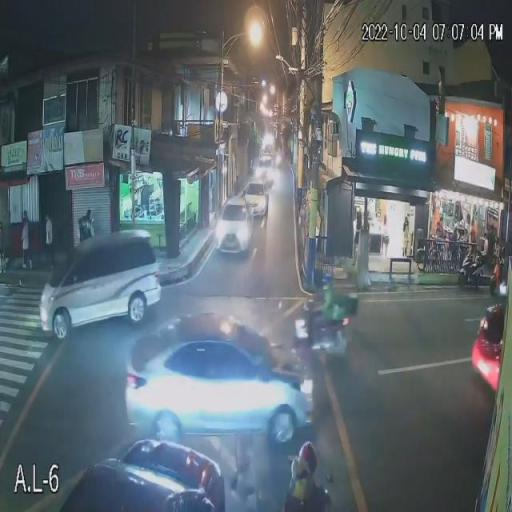helmet: (296, 440, 318, 468), (318, 274, 334, 290)
motorcycle: (294, 302, 359, 364), (282, 441, 332, 512), (456, 249, 491, 290), (489, 256, 510, 305)
rider: (284, 440, 330, 512), (311, 276, 340, 336), (491, 252, 506, 294)
